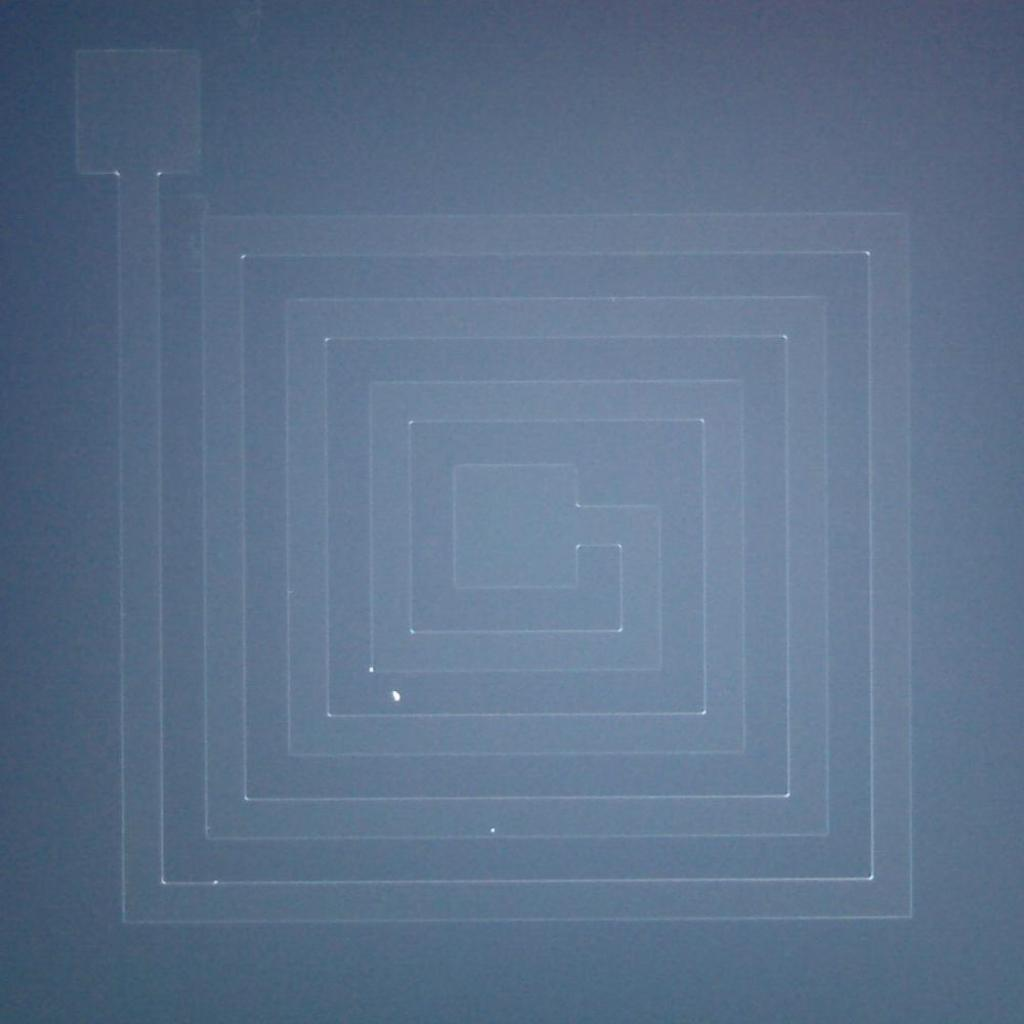dot: (392, 692, 401, 700), (368, 667, 374, 672), (490, 828, 496, 833), (214, 880, 218, 884)
